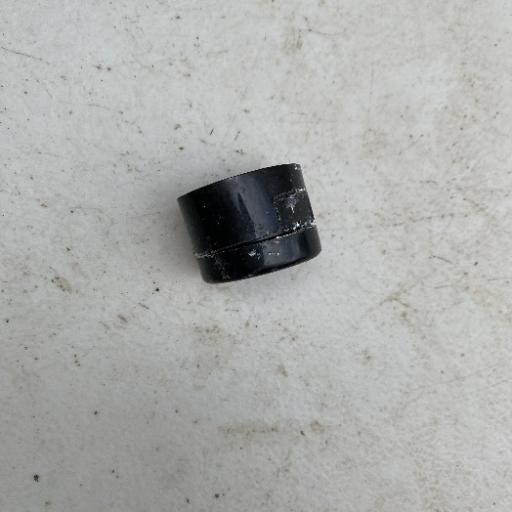Plastic: (174, 160, 323, 286)
